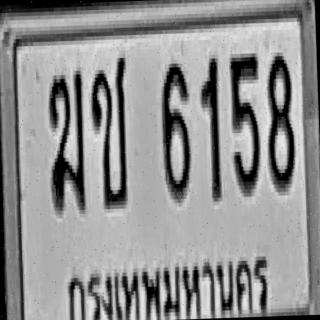A06: (46, 69, 87, 213)
A10: (88, 54, 131, 210)
N01: (199, 56, 222, 200)
N05: (229, 51, 262, 195)
N06: (160, 59, 192, 200)
N08: (264, 52, 296, 192)
P04: (61, 243, 275, 320)
